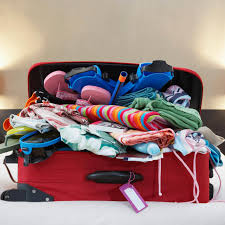suitcase: (13, 60, 213, 203)
